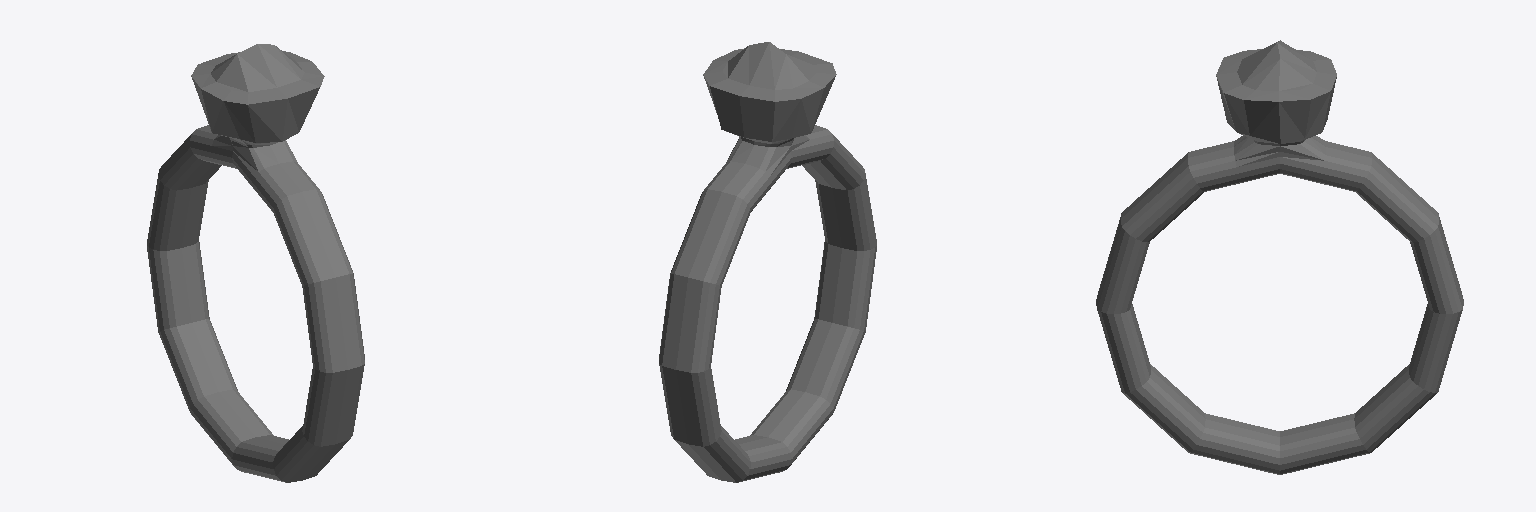
The model's file is Anillo.obj.
3 renders of one model, left to right at view 1: azimuth 30°, elevation 25°; view 2: azimuth 150°, elevation 25°; view 3: azimuth 270°, elevation 25°, orthographic.
Visible parts, largest first — view 1: Anillo.obj; view 2: Anillo.obj; view 3: Anillo.obj.
Boxes of the visible parts, x1,y1,x2,y2 form: Anillo.obj: [147, 44, 364, 482]; Anillo.obj: [659, 42, 876, 482]; Anillo.obj: [1096, 40, 1463, 474].
Size of the model in its own units: 0.7737 by 2.83 by 2.21.